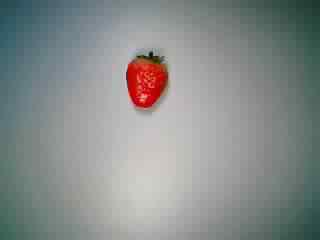strawberry: (113, 48, 179, 114)
